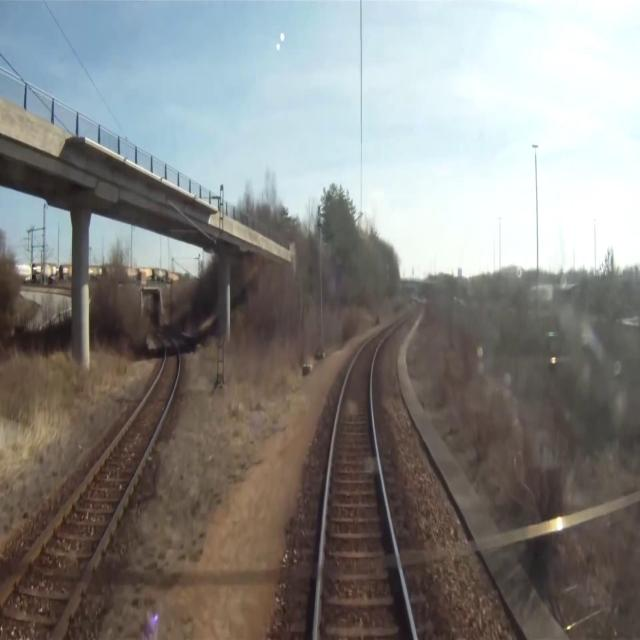rail-track: (318, 299, 413, 639)
